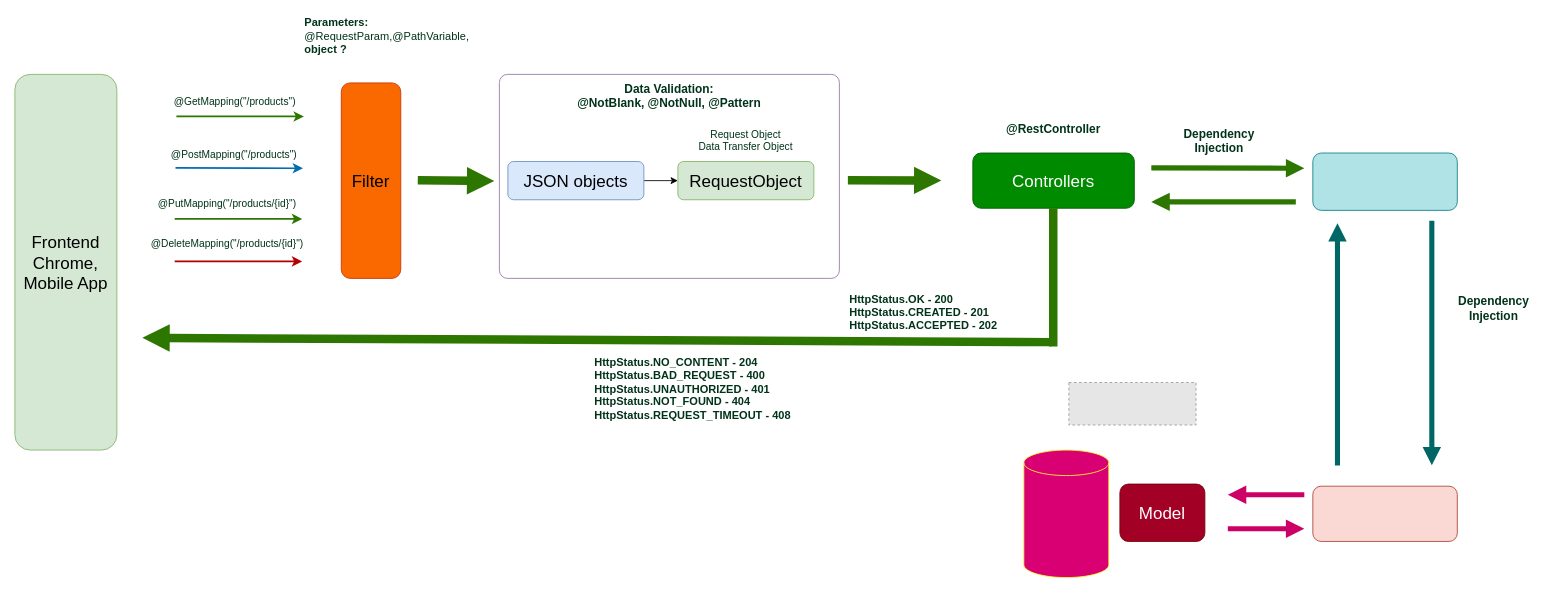
Some shapes in this 1551 by 592 pixel diagram are drawn without their labels. Grey dashed boxes stand in for pictures. The centre of each missing label's shape, as x and y in pixels:
MySQL: the point at 1066,513
Repositories: the point at 1384,513
Services: the point at 1384,181
